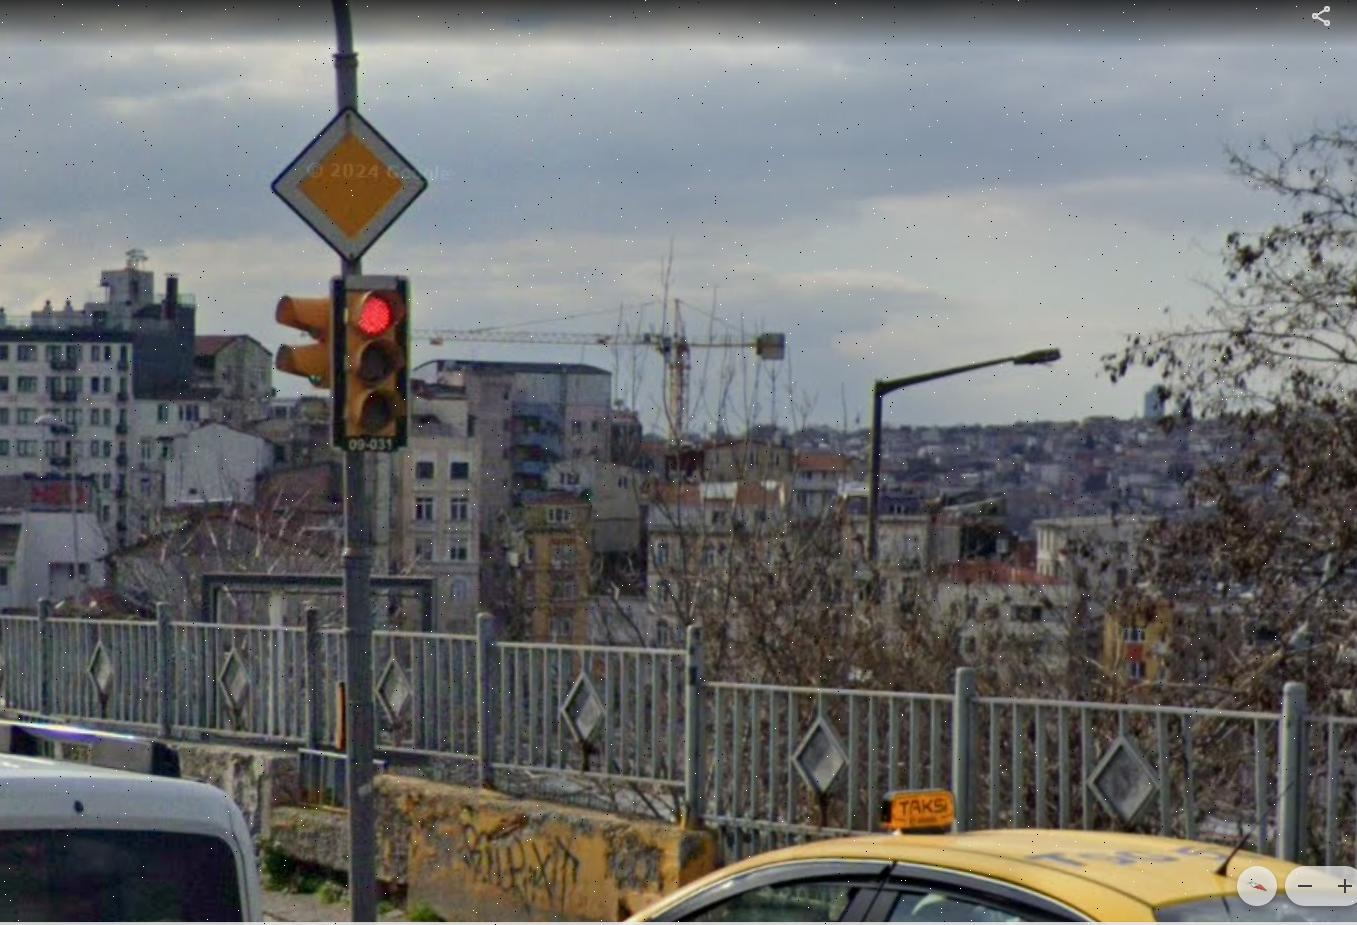redlight: (337, 274, 407, 437)
